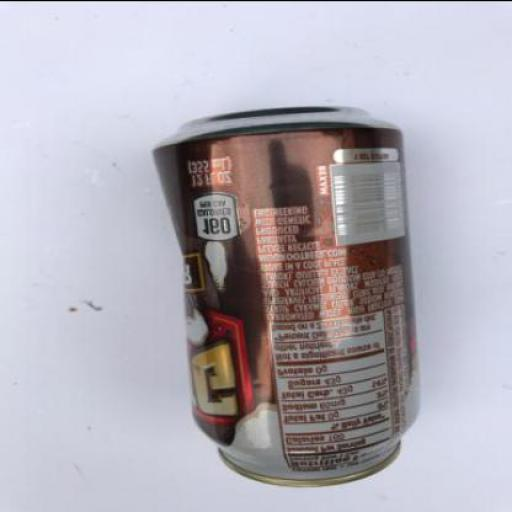metal: (150, 105, 416, 488)
